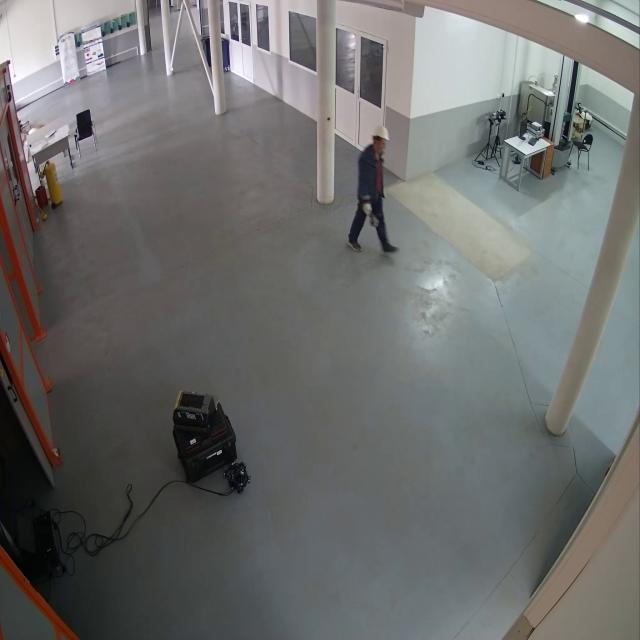Hardhat: (372, 123, 391, 142)
Person: (346, 120, 400, 256)
